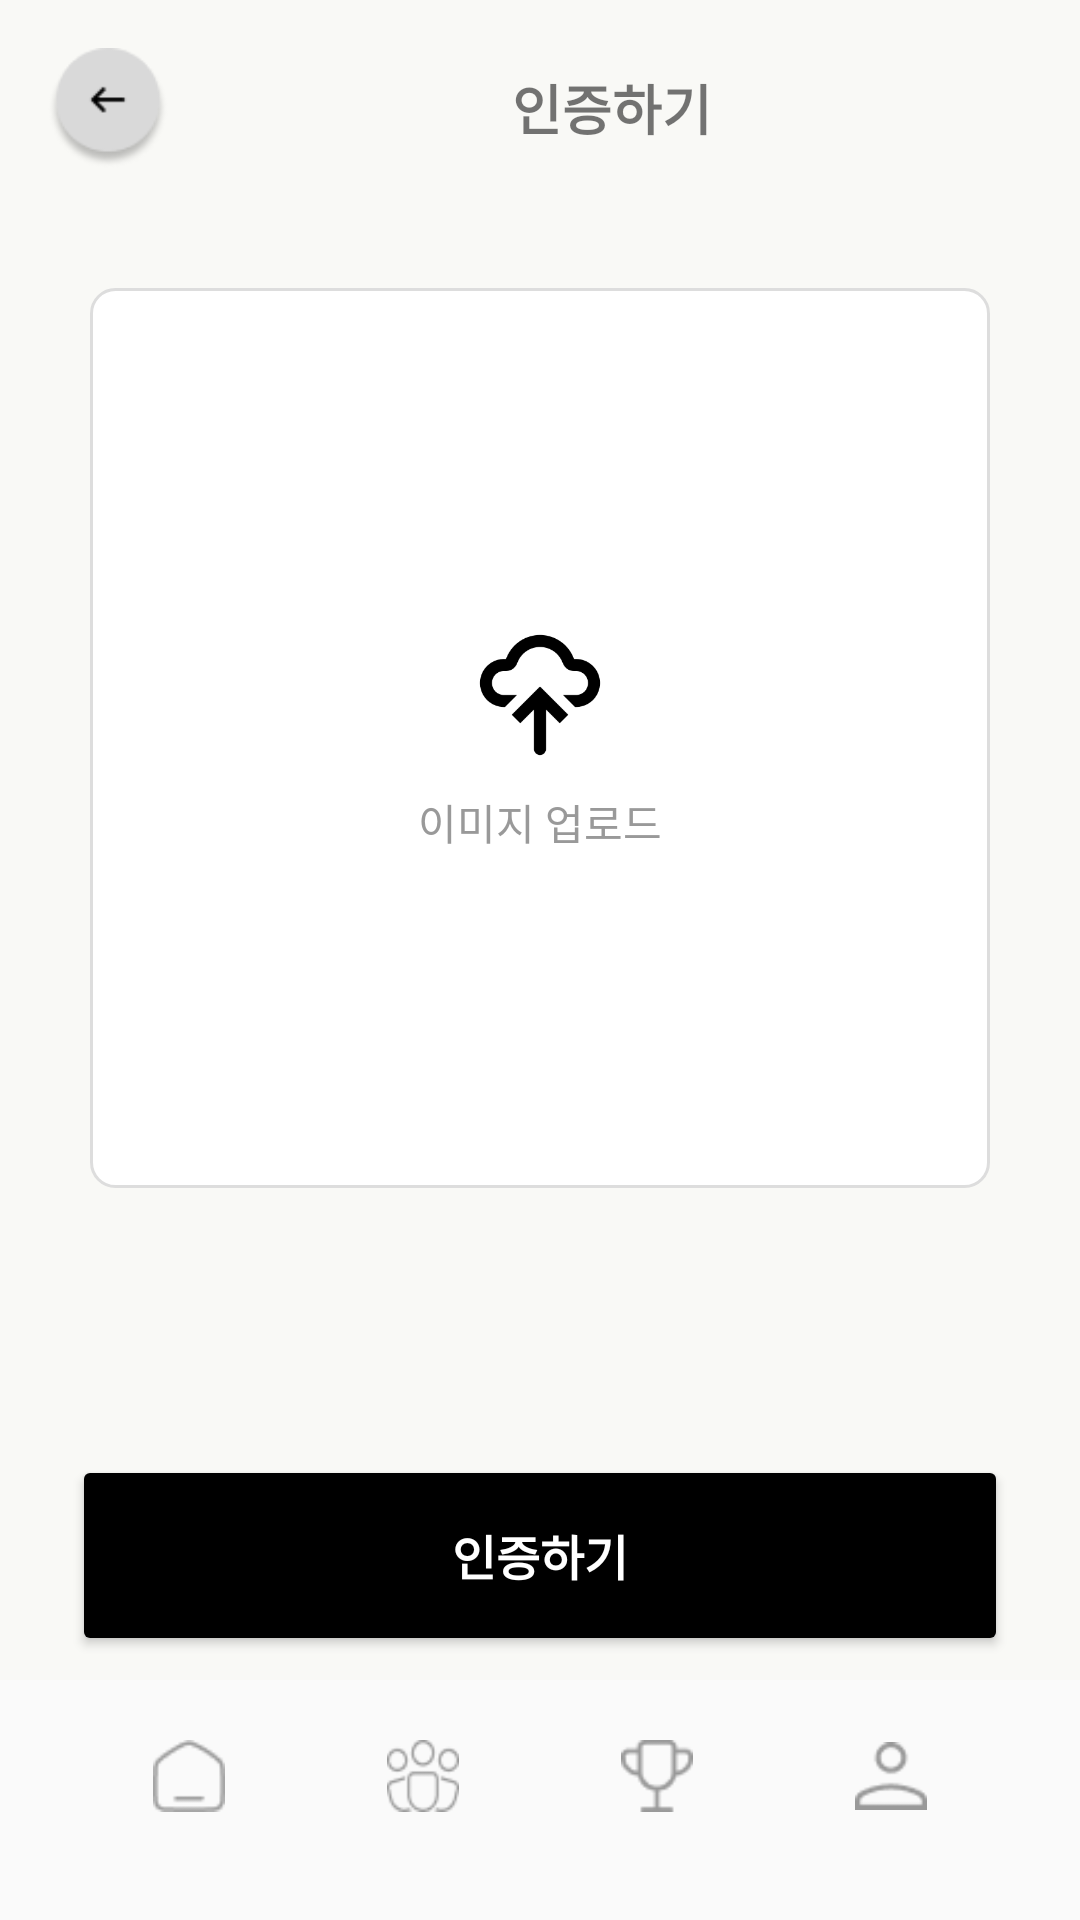

Screen size 1080px x 1920px. Icon name, then its box in pixels as box(x1, y1, x2, y2):
back: box(55, 48, 161, 161)
upload cloud: box(479, 634, 601, 756)
마이 아이콘: box(855, 1742, 927, 1810)
챌린지 아이콘: box(621, 1740, 693, 1812)
커뮤니티 아이콘: box(387, 1740, 459, 1812)
홈 아이콘: box(153, 1740, 225, 1812)
